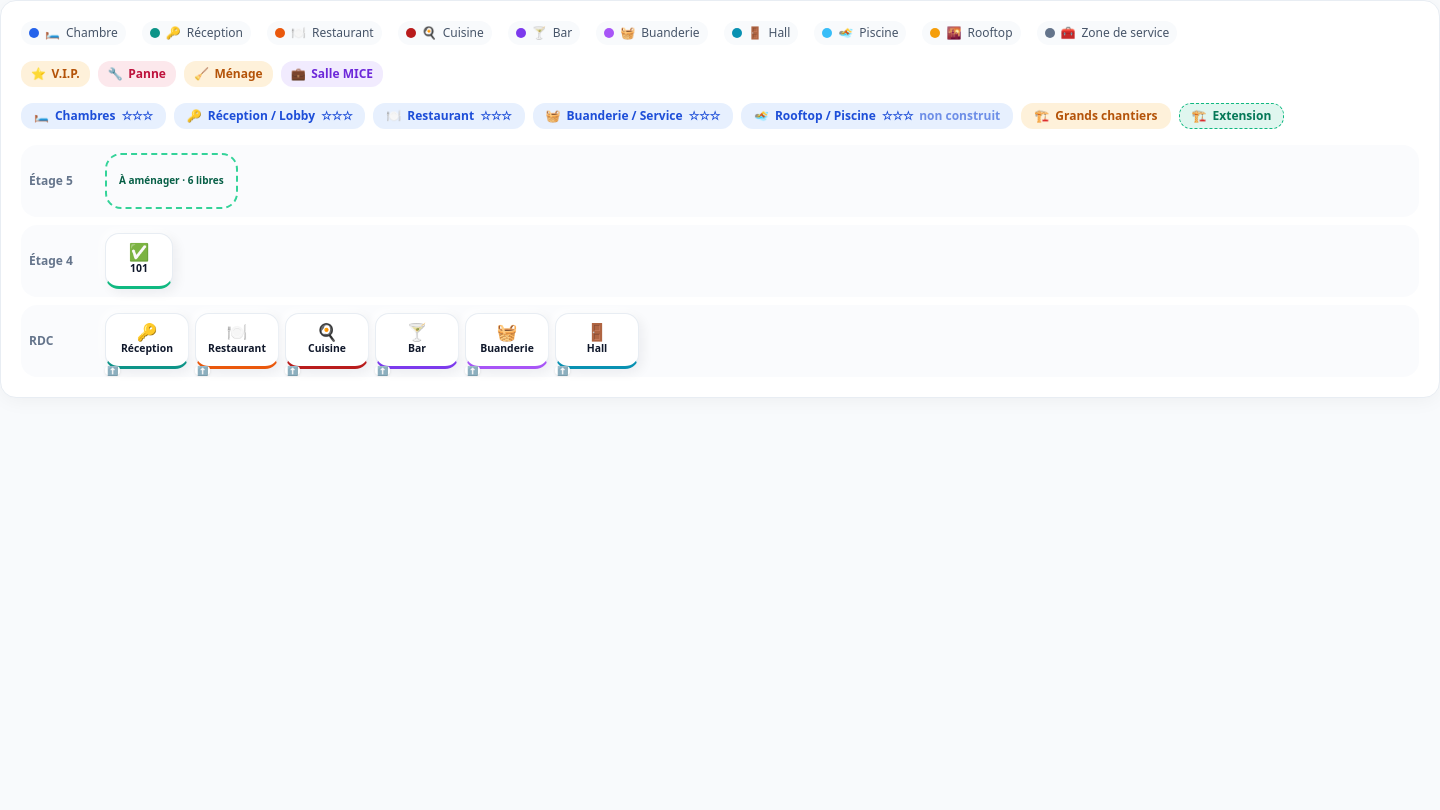
Test case: SchematicHotelView / opening the expansion modal › the floor's fit-out button opens it
The width and height of the screenshot is (1440, 810).
Click the button with test id "schematic-floor-5-fitout". click: (171, 181)
box: [105, 153, 238, 209]
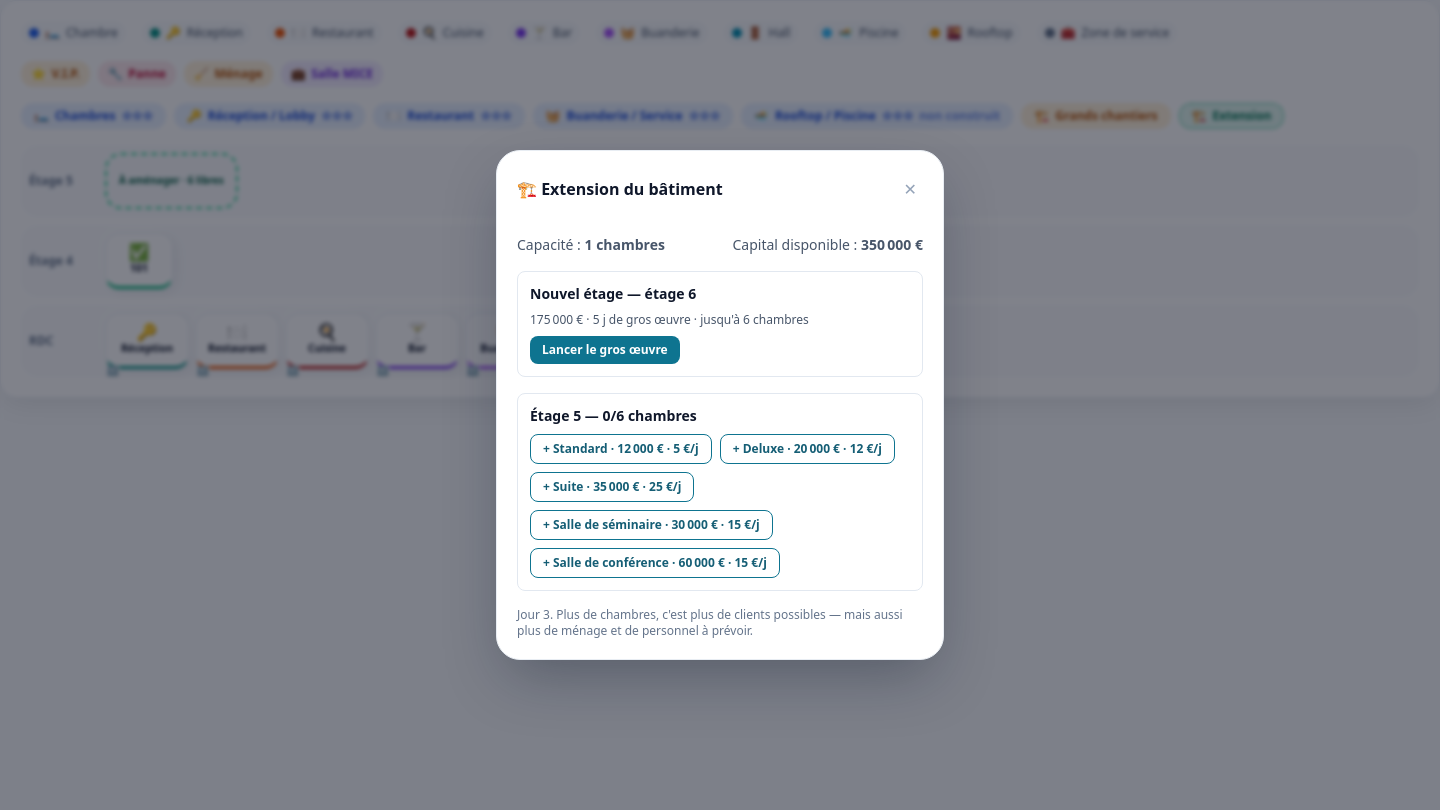
expect the element with test id "expansion-floor-5" is shown: met, box [517, 393, 923, 591]
